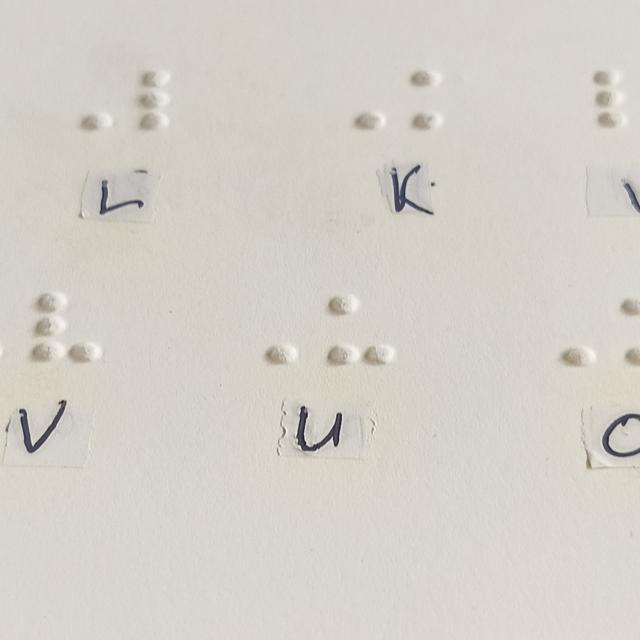K: (411, 67, 470, 132)
L: (141, 68, 200, 133)
U: (329, 293, 395, 365)
capital: (230, 292, 296, 365), (530, 295, 596, 368), (54, 70, 113, 135), (327, 69, 386, 134)
v: (38, 292, 103, 362)
